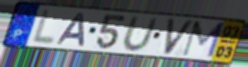5: (95, 13, 128, 51)
A: (55, 12, 86, 48)
L: (29, 8, 57, 47)
M: (180, 20, 227, 59)
U: (121, 16, 159, 53)
V: (163, 17, 197, 57)
